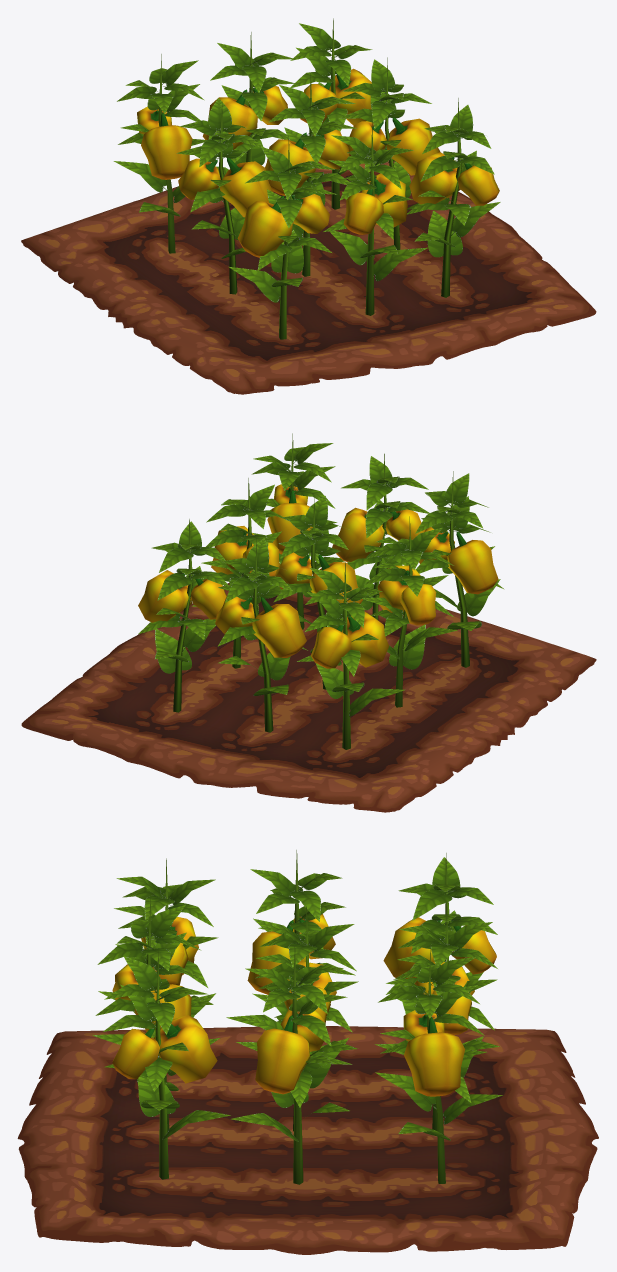
Rendered from BellPepper_Field_Yellow_Lv3.FBX.
3 renders of one model, top to bottom at view 1: azimuth 30°, elevation 25°; view 2: azimuth 150°, elevation 25°; view 3: azimuth 270°, elevation 25°, orthographic. The views are drawn at different scales.
Visible parts, largest first — view 1: BellPepper_Field_Yellow_Lv3; view 2: BellPepper_Field_Yellow_Lv3; view 3: BellPepper_Field_Yellow_Lv3.
Part boxes in pixels (x1=…): BellPepper_Field_Yellow_Lv3: x1=21, y1=18, x2=596, y2=394; BellPepper_Field_Yellow_Lv3: x1=21, y1=433, x2=596, y2=812; BellPepper_Field_Yellow_Lv3: x1=17, y1=850, x2=598, y2=1254.
Size of the model in its own units: 274 by 134 by 296.
